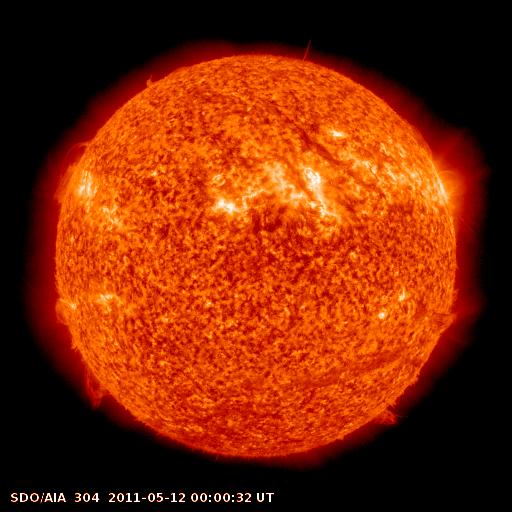prominence: (47, 127, 109, 208), (427, 296, 479, 346), (44, 290, 80, 354), (77, 361, 117, 415), (365, 397, 404, 439), (401, 120, 438, 161), (292, 29, 323, 73), (140, 68, 170, 102)
